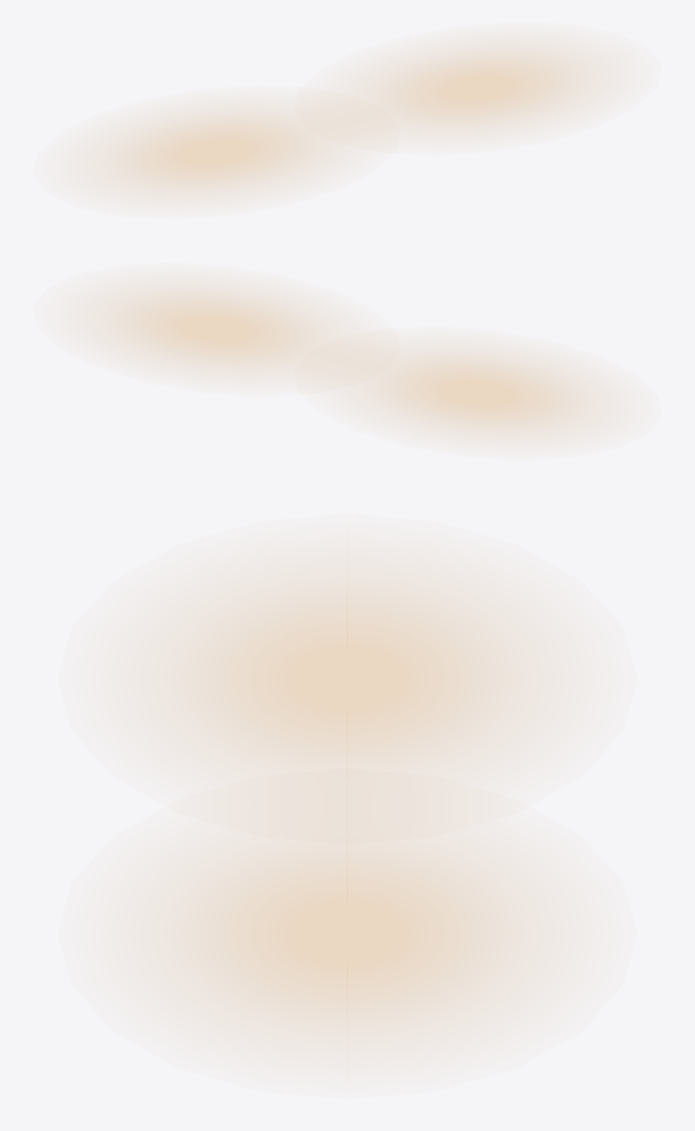
Rendered from evening_market_pool.glb.
3 renders of one model, top to bottom at view 1: azimuth 30°, elevation 25°; view 2: azimuth 150°, elevation 25°; view 3: azimuth 270°, elevation 25°, orthographic. The views are drawn at different scales.
Parts seen in each view (by area): view 1: Abendmarkt · Kerzenlicht auf dem Pflaster; view 2: Abendmarkt · Kerzenlicht auf dem Pflaster; view 3: Abendmarkt · Kerzenlicht auf dem Pflaster.
Boxes of the visible parts, x1,y1,x2,y2 form: Abendmarkt · Kerzenlicht auf dem Pflaster: [107, 49, 587, 191]; Abendmarkt · Kerzenlicht auf dem Pflaster: [107, 290, 587, 432]; Abendmarkt · Kerzenlicht auf dem Pflaster: [174, 562, 520, 1050].
Size of the model in its own units: 3.8 by 0 by 1.66.
